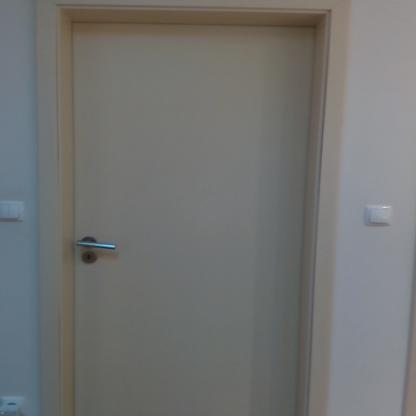door: (70, 25, 301, 412), (75, 238, 122, 254)
